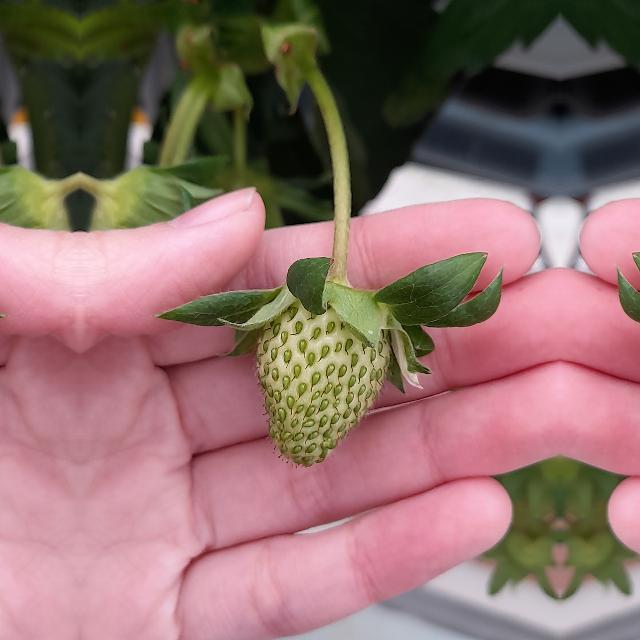Health_25: (256, 300, 388, 466)
